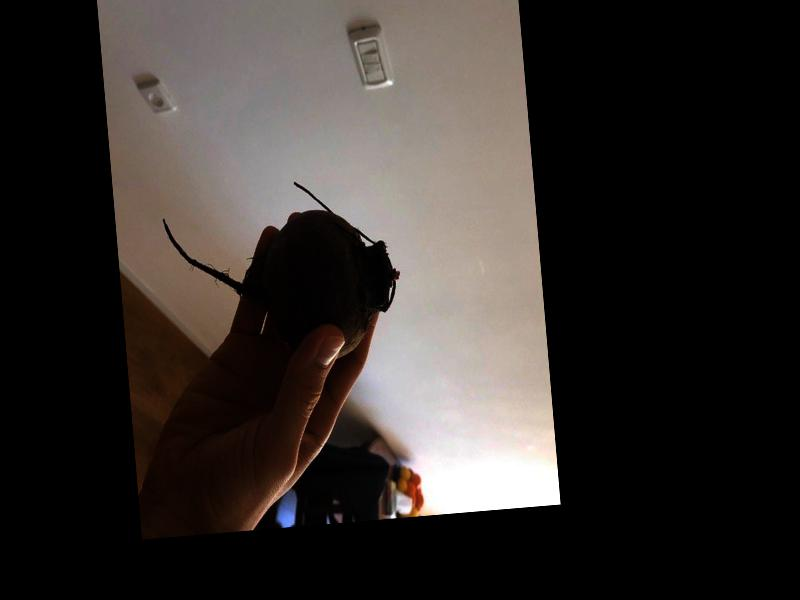Beet: (160, 172, 406, 373)
